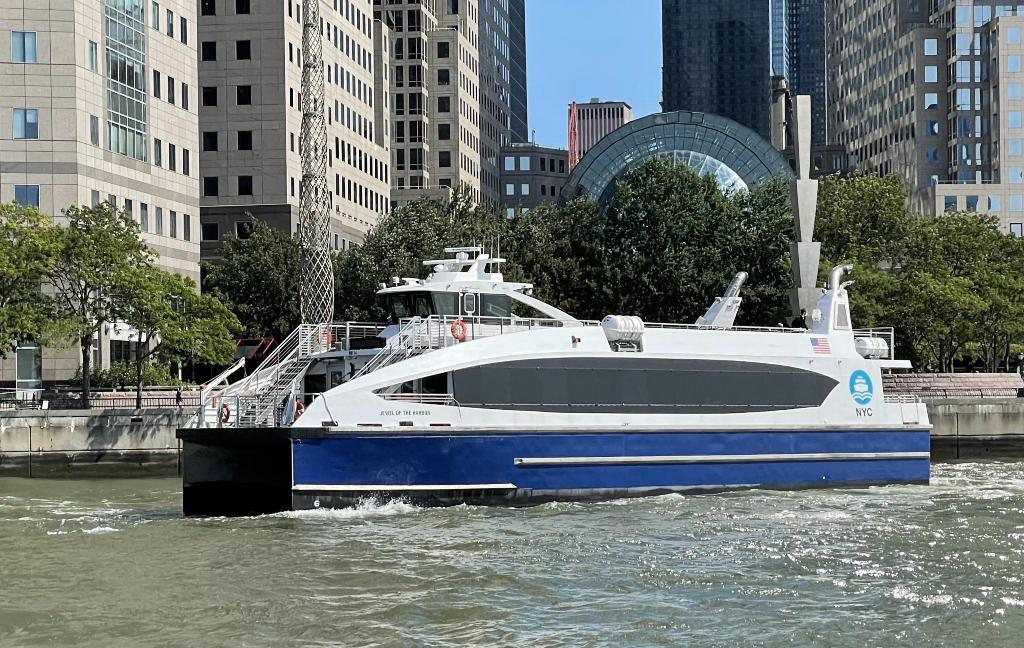PassengerShip: (158, 233, 938, 501)
